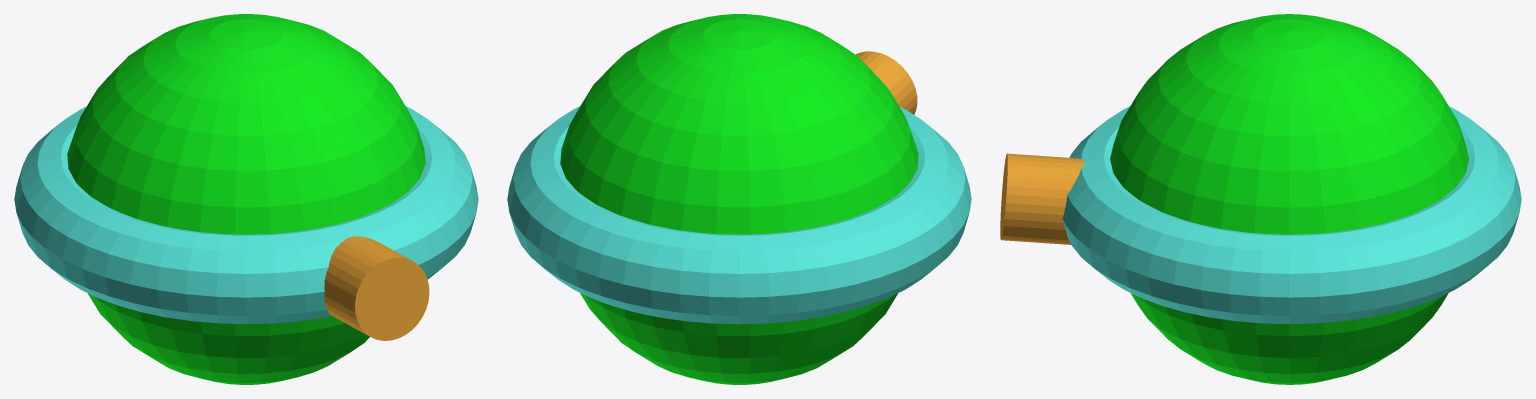
The model's file is enemy2.gltf.
3 renders of one model, left to right at view 1: azimuth 30°, elevation 25°; view 2: azimuth 150°, elevation 25°; view 3: azimuth 270°, elevation 25°, orthographic.
Parts seen in each view (by area): view 1: Sphere, Torus, Cylinder; view 2: Sphere, Torus, Cylinder; view 3: Sphere, Torus, Cylinder.
Boxes of the visible parts, bbox=[...] form: Sphere: bbox=[67, 14, 425, 384]; Torus: bbox=[14, 106, 478, 324]; Cylinder: bbox=[324, 236, 429, 340]; Sphere: bbox=[560, 14, 918, 384]; Torus: bbox=[507, 106, 971, 324]; Cylinder: bbox=[855, 51, 917, 114]; Sphere: bbox=[1110, 14, 1468, 384]; Torus: bbox=[1062, 106, 1521, 324]; Cylinder: bbox=[1000, 153, 1084, 244].
Bounding box in the file's own units: 2.5 × 2 × 2.81.
